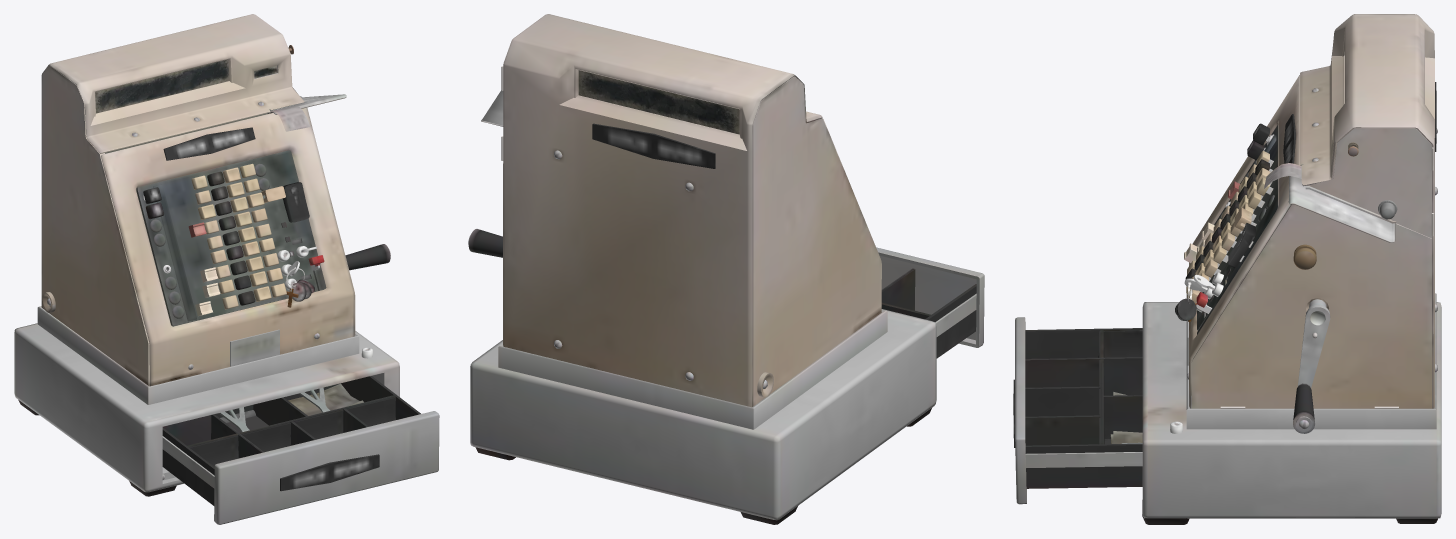
File: CashRegister_01.glb
3 views of the same model, side by side, from view 1: azimuth 30°, elevation 25°; view 2: azimuth 150°, elevation 25°; view 3: azimuth 270°, elevation 25° (orthographic). The views are drawn at different scales.
Visible parts, largest first — view 1: CashRegister_01_body_mesh, CashRegister_011_drawer_mesh; view 2: CashRegister_01_body_mesh, CashRegister_011_drawer_mesh; view 3: CashRegister_01_body_mesh, CashRegister_011_drawer_mesh.
Boxes of the visible parts, x1,y1,x2,y2 form: CashRegister_01_body_mesh: (14, 14, 399, 496); CashRegister_011_drawer_mesh: (162, 376, 439, 524); CashRegister_01_body_mesh: (468, 14, 936, 524); CashRegister_011_drawer_mesh: (876, 247, 984, 358); CashRegister_01_body_mesh: (1142, 14, 1441, 524); CashRegister_011_drawer_mesh: (1013, 317, 1142, 504).
Size of the model in its own units: 0.6005 by 0.6214 by 0.6242.
Materials: 2 (2 with a texture image).
